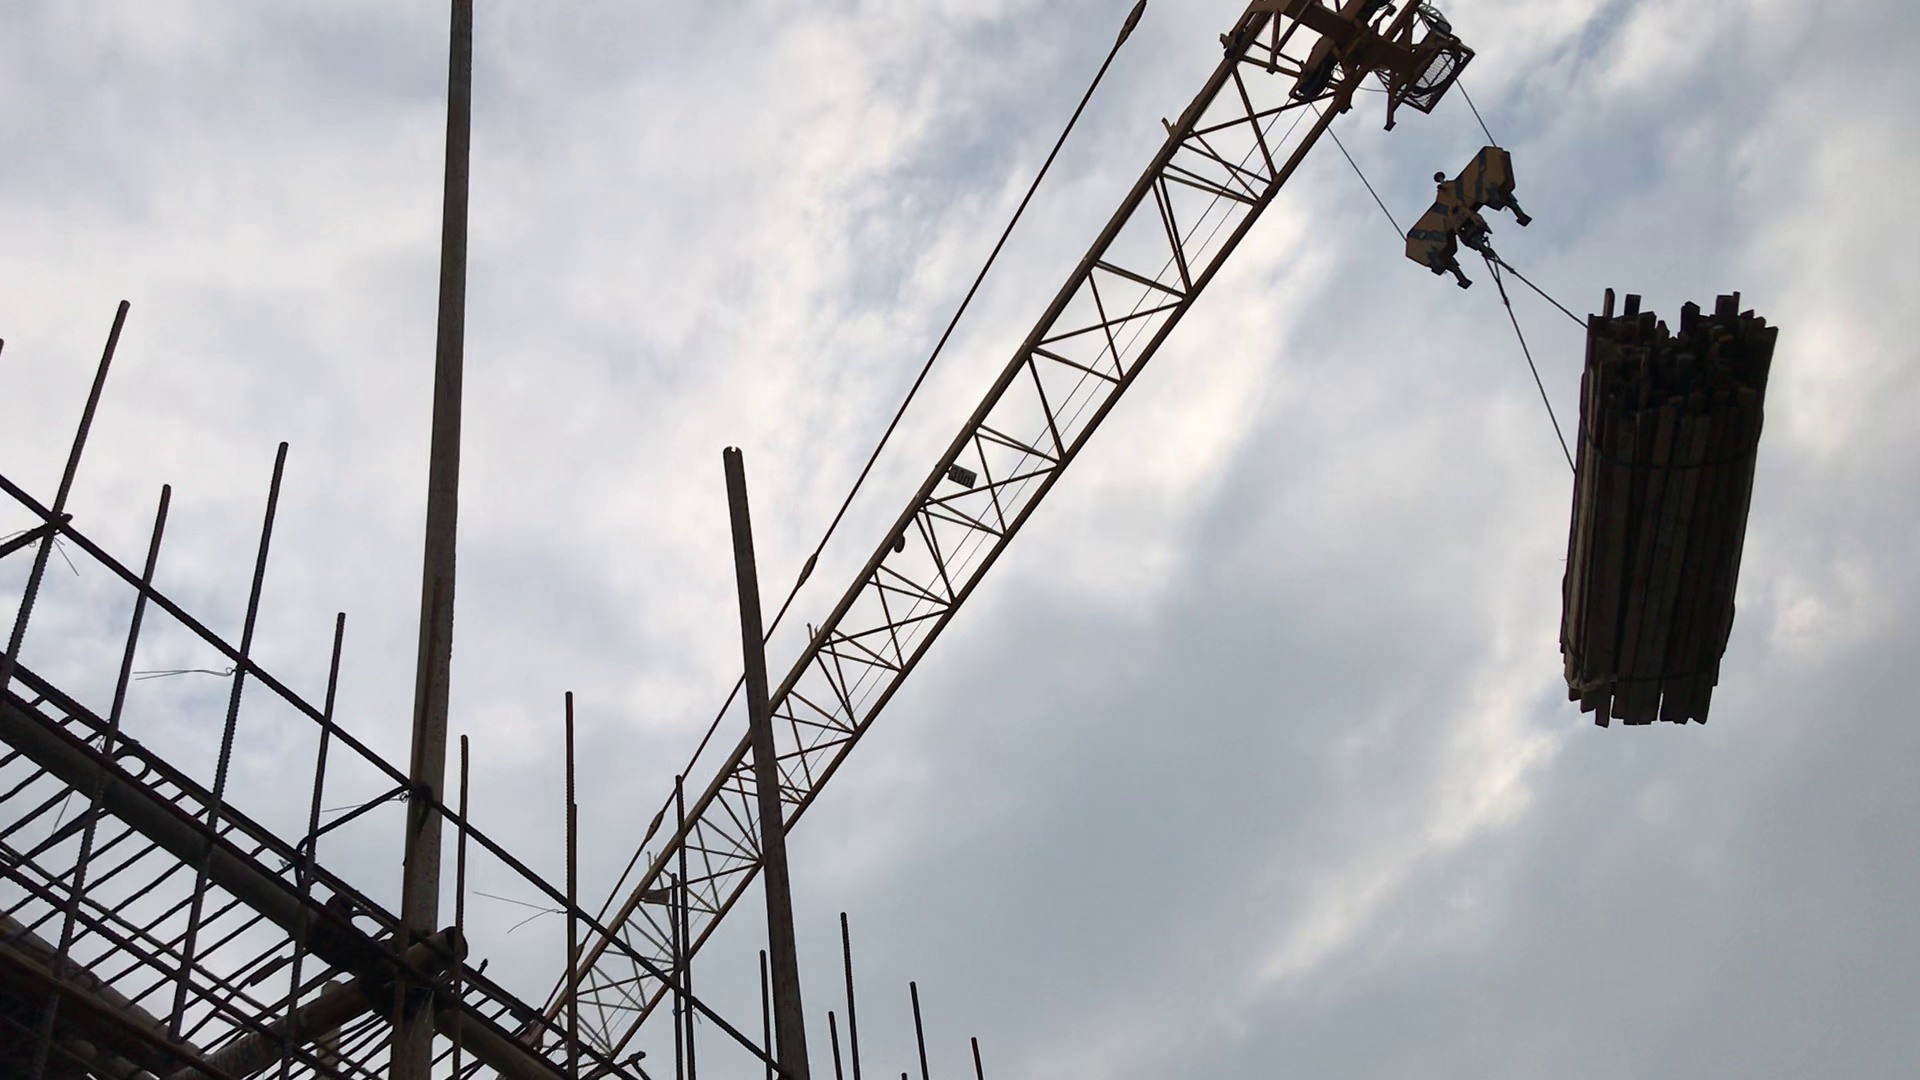hook: (1402, 133, 1545, 305)
wood: (1545, 281, 1792, 738)
